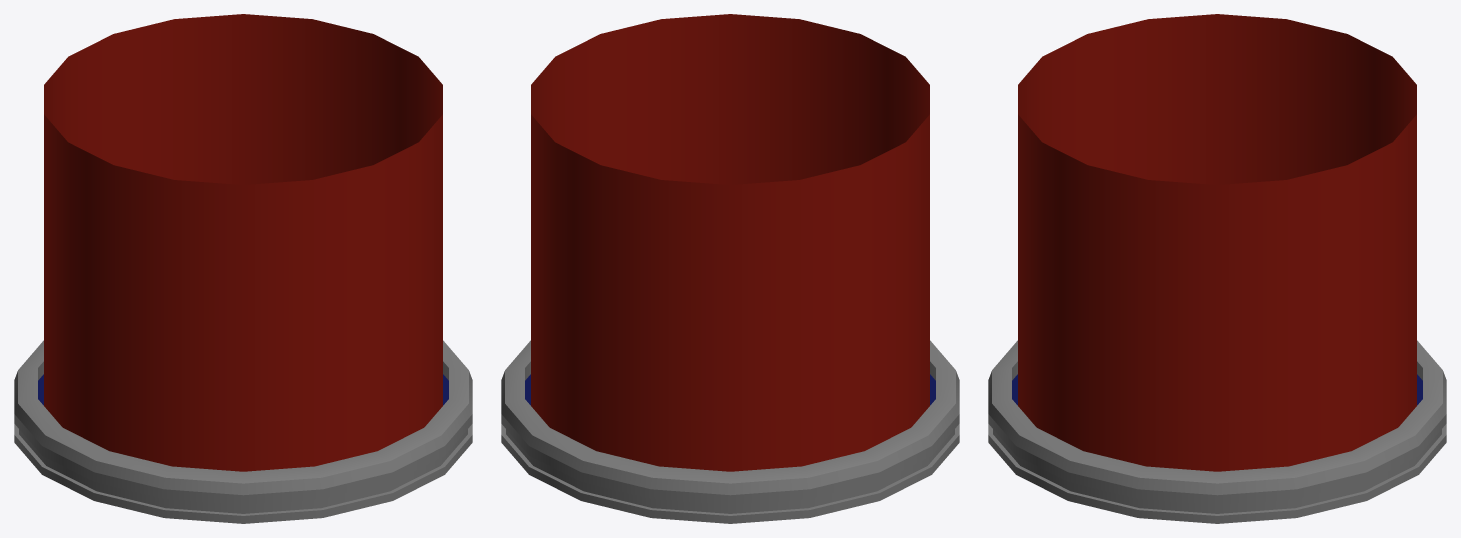
The model's file is Center HUB.fbx.
3 renders of one model, left to right at view 1: azimuth 30°, elevation 25°; view 2: azimuth 150°, elevation 25°; view 3: azimuth 270°, elevation 25°, orthographic.
Parts seen in each view (by area): view 1: Screen, Starting Platform; view 2: Screen, Starting Platform; view 3: Screen, Starting Platform.
Part boxes in pixels (x1,y1,x2,y2): Screen: [44, 14, 442, 471]; Starting Platform: [14, 340, 472, 523]; Screen: [531, 14, 929, 471]; Starting Platform: [501, 340, 959, 523]; Screen: [1018, 14, 1416, 471]; Starting Platform: [988, 340, 1446, 523].
Bounding box in the file's own units: 81.42 × 80.18 × 62.99.
